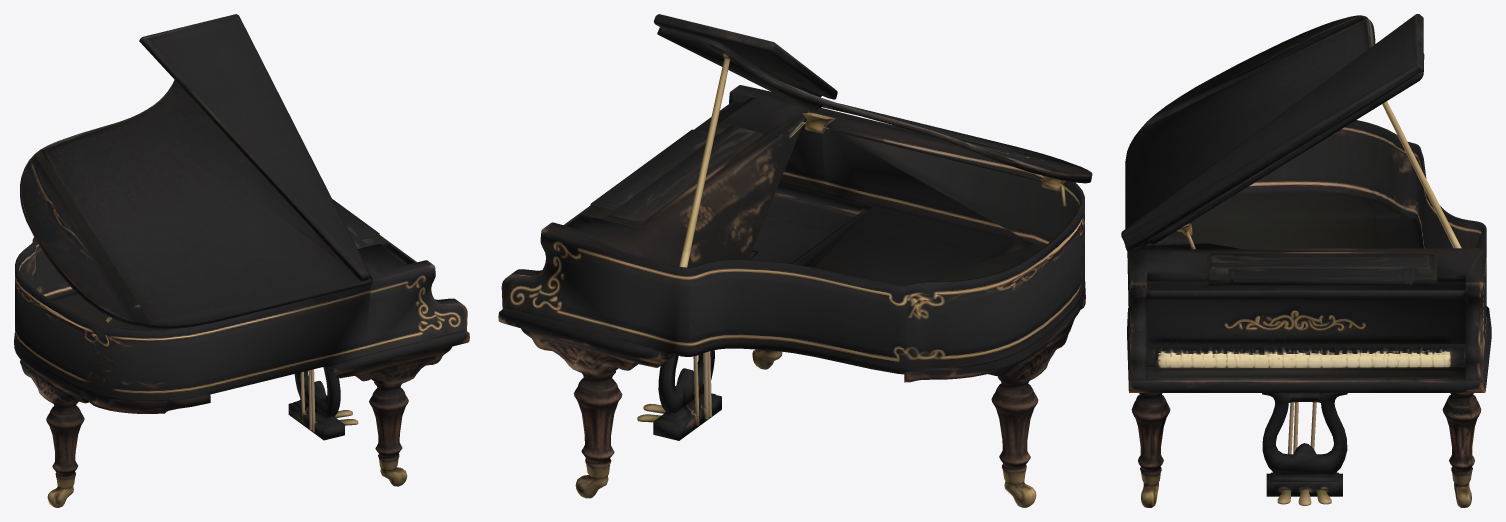
Rendered from SM_Env_BaskervilleGrandPiano.fbx.
3 renders of one model, left to right at view 1: azimuth 30°, elevation 25°; view 2: azimuth 150°, elevation 25°; view 3: azimuth 270°, elevation 25°, orthographic. The views are drawn at different scales.
Visible parts, largest first — view 1: SM_Env_BaskervilleGrandPiano; view 2: SM_Env_BaskervilleGrandPiano; view 3: SM_Env_BaskervilleGrandPiano.
Part boxes in pixels (<box>): SM_Env_BaskervilleGrandPiano: <box>14,14,469,507</box>; SM_Env_BaskervilleGrandPiano: <box>498,14,1092,507</box>; SM_Env_BaskervilleGrandPiano: <box>1121,14,1491,507</box>.
Size of the model in its own units: 29.27 by 23.76 by 30.
1 material, 1 textured.
